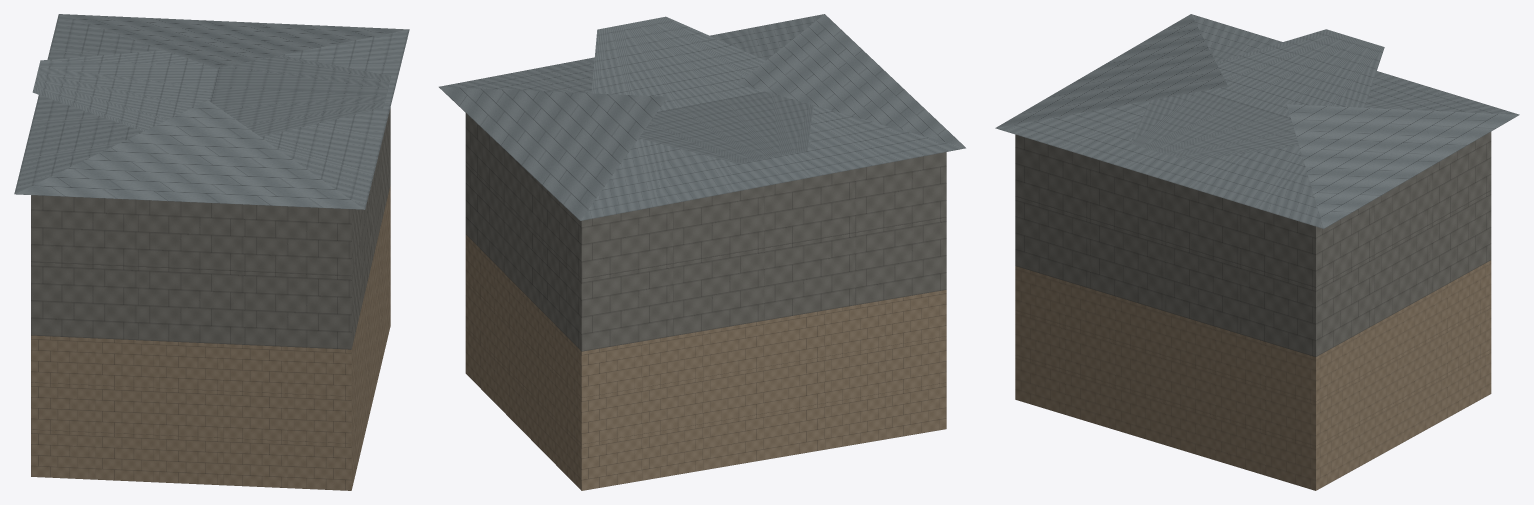
The model's file is bld_c37_47_193.gltf.
3 views of the same model, side by side, from view 1: azimuth 30°, elevation 25°; view 2: azimuth 150°, elevation 25°; view 3: azimuth 270°, elevation 25° (orthographic). The views are drawn at different scales.
Parts seen in each view (by area): view 1: bld_c37_47_193; view 2: bld_c37_47_193; view 3: bld_c37_47_193.
Part boxes in pixels (box(x1,y1,x2,y2)): bld_c37_47_193: box(14, 14, 409, 490); bld_c37_47_193: box(439, 14, 965, 490); bld_c37_47_193: box(995, 14, 1519, 490).
Size of the model in its own units: 17.58 by 11.4 by 18.14.
3 materials, 3 textured.
